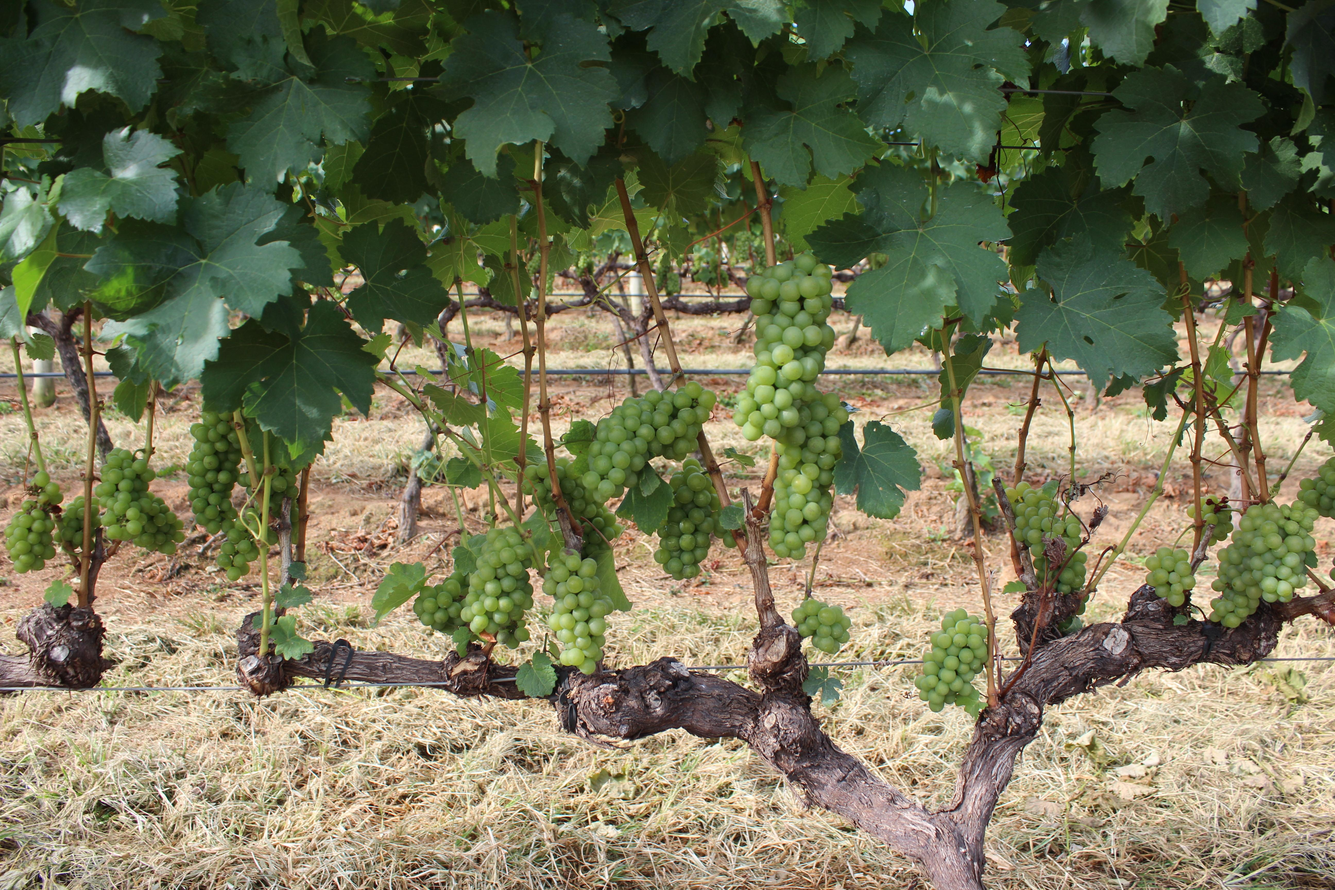leaf: (86, 183, 302, 386), (807, 164, 1009, 352), (845, 0, 1030, 161), (444, 11, 619, 176), (1092, 66, 1264, 220), (201, 300, 376, 443), (1016, 240, 1178, 389), (227, 28, 375, 183), (0, 0, 165, 126), (742, 64, 880, 185), (58, 127, 180, 232), (1007, 166, 1133, 266), (341, 219, 449, 332), (353, 90, 444, 203), (1271, 257, 1335, 415), (833, 421, 920, 518), (626, 66, 708, 166), (1168, 194, 1248, 278), (1265, 192, 1335, 277), (780, 174, 857, 251), (1079, 0, 1169, 65), (441, 154, 520, 224), (637, 150, 719, 216), (1285, 0, 1335, 105), (794, 0, 882, 58), (1241, 136, 1302, 210), (371, 562, 427, 624), (1196, 0, 1256, 35), (515, 651, 557, 697), (802, 666, 843, 706), (218, 404, 238, 410), (206, 395, 214, 404), (231, 383, 239, 392), (268, 335, 280, 337), (311, 439, 319, 441), (544, 189, 546, 192), (1068, 0, 1070, 2), (20, 5, 21, 7), (238, 332, 239, 333), (247, 325, 248, 326)
